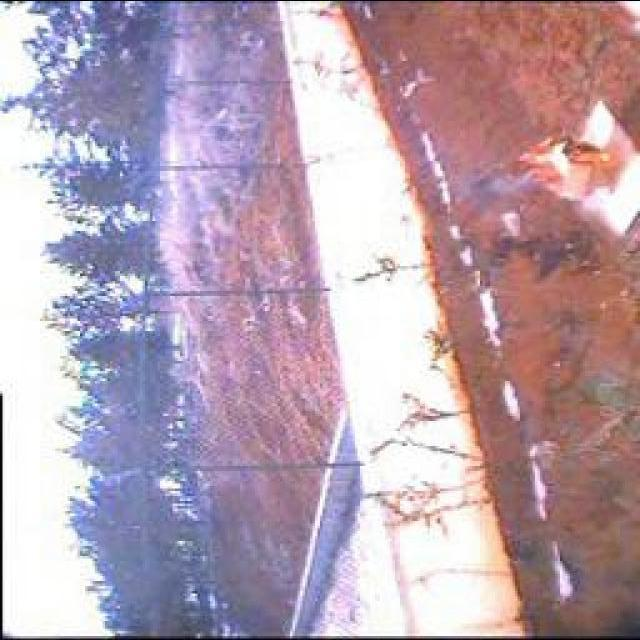Fire: (476, 134, 630, 202)
